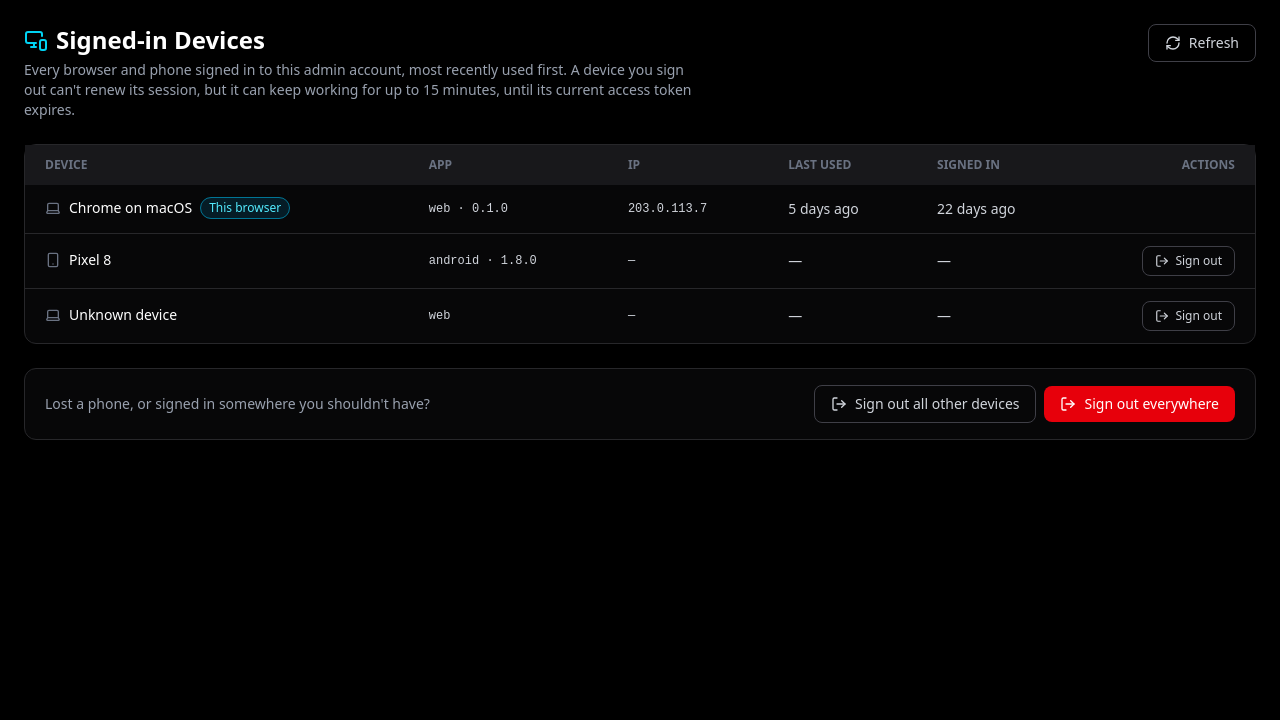
Test case: DevicesSection › signs out every other device and keeps this one
The width and height of the screenshot is (1280, 720).
Click the button "Sign out all other devices": [925, 404] box 814,385 -> 1036,423
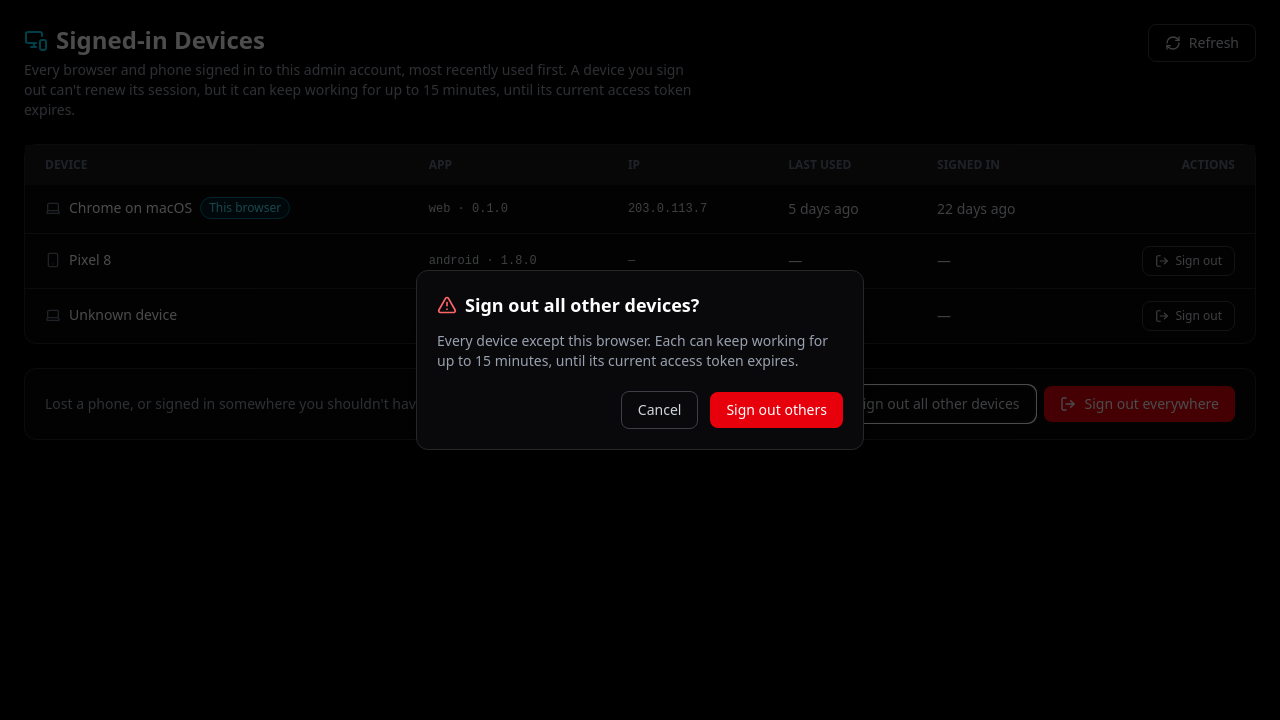
Click the button "Sign out others": [777, 410] box 710,392 -> 843,428
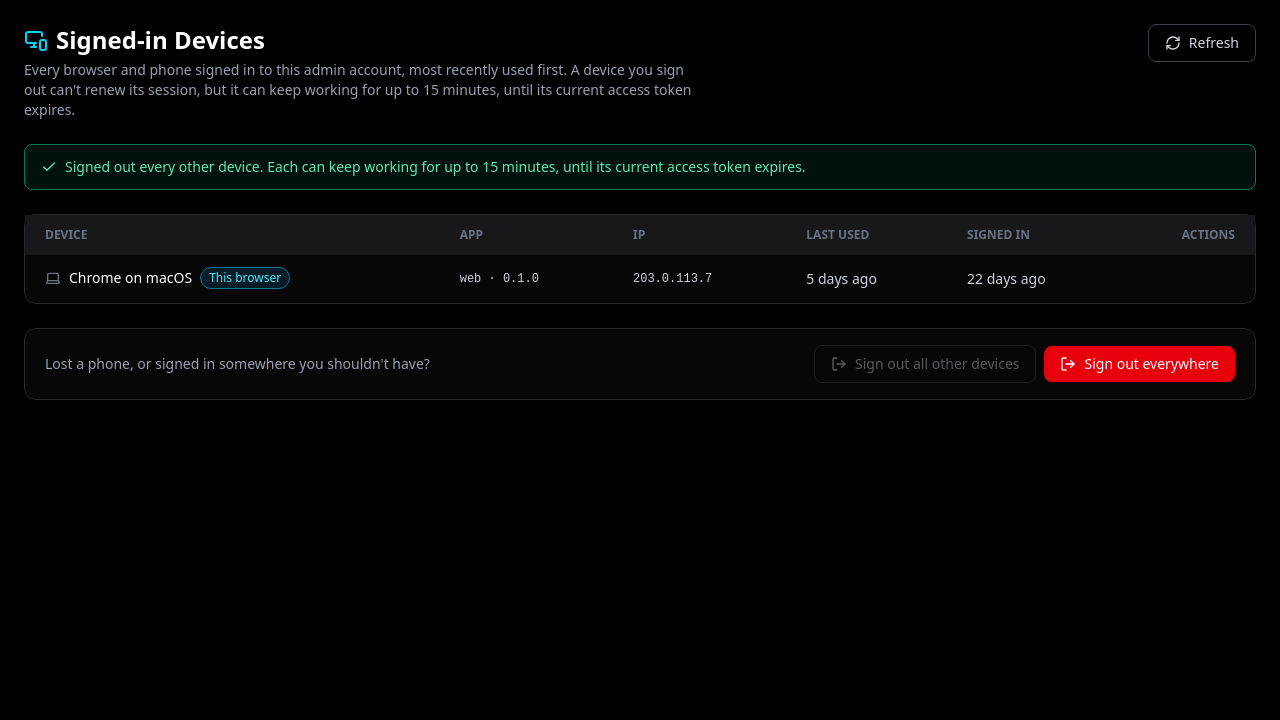
Expected: the text "Chrome on macOS" is shown, 69,268 -> 192,288
Expected: the text "Pixel 8" is gone
Expected: the button "Sign out all other devices" is disabled, 814,345 -> 1036,383
